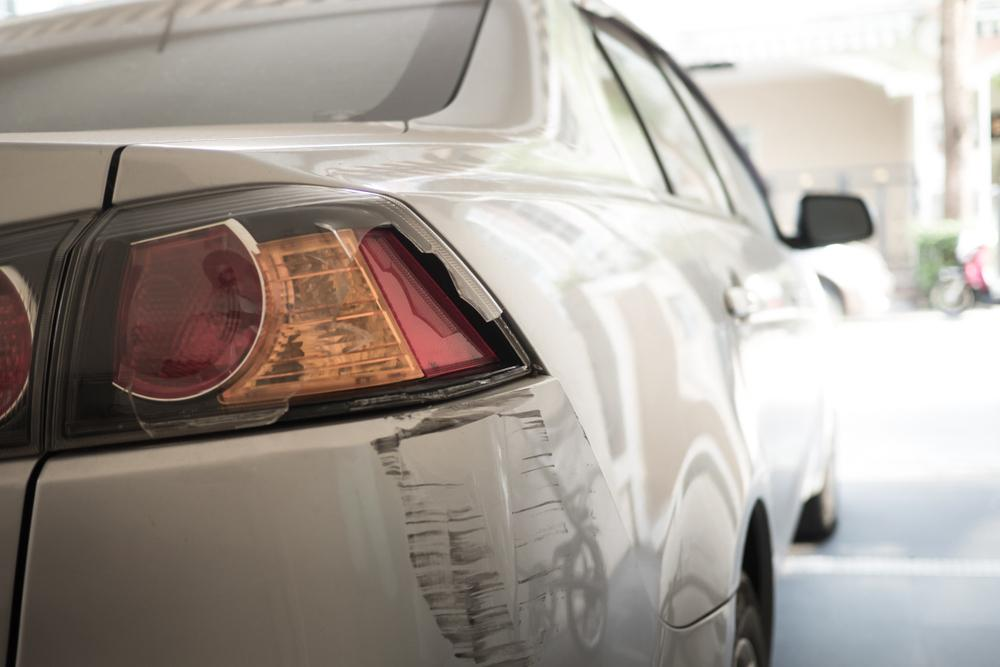lamp broken: (53, 183, 547, 459)
scratch: (368, 382, 588, 667)
